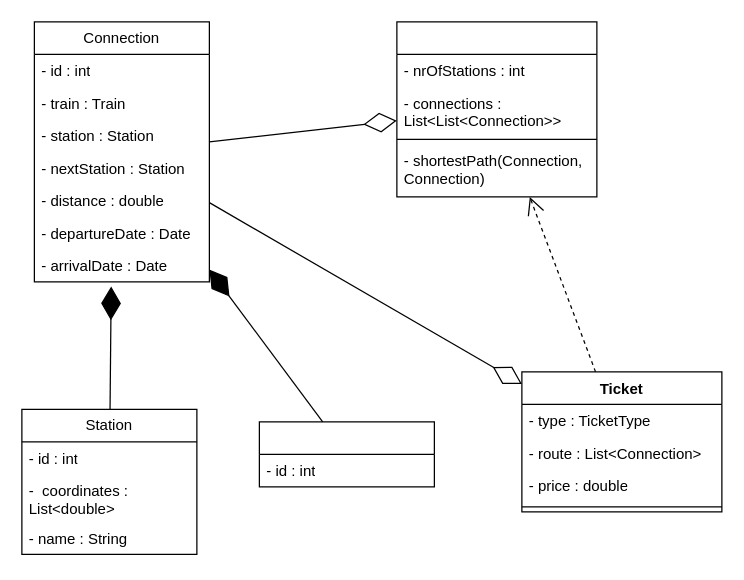
Some shapes in this 744 by 580 pixel diagram are drawn without their labels. Each missing label, with the box of its shape:
Network: (396, 21, 597, 197)
Train: (258, 421, 434, 487)
